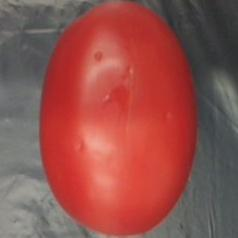unripe: (27, 0, 203, 238)
